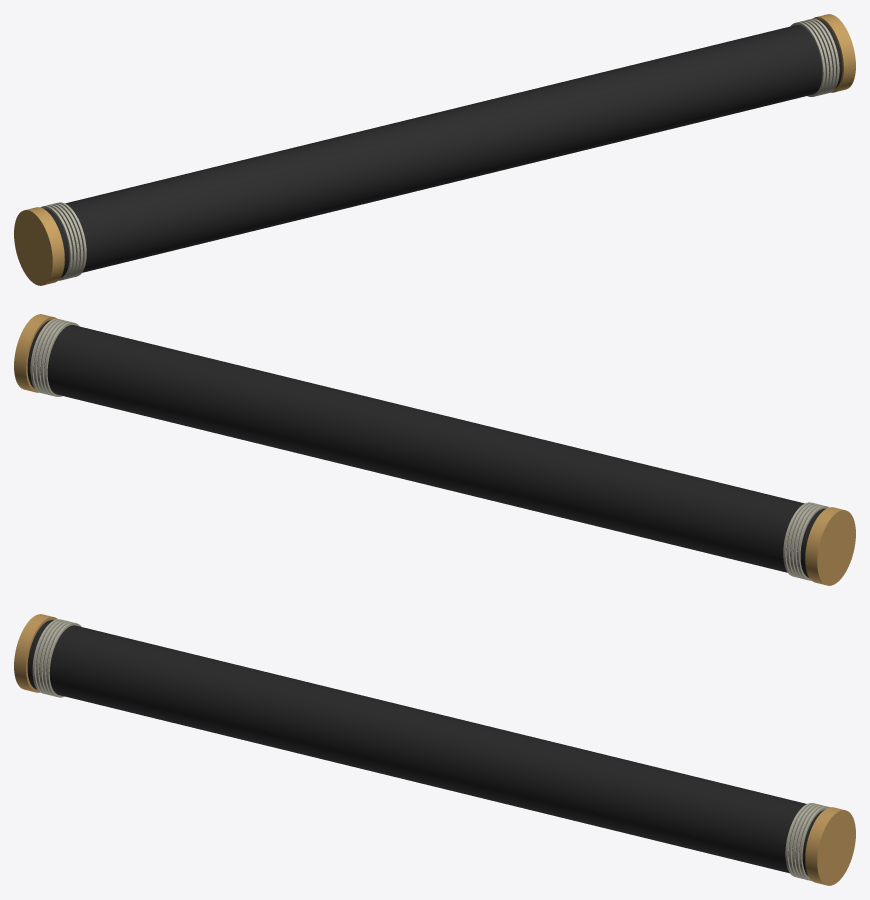
The model's file is Executive.glb.
The picture shows the model from 3 angles, top to bottom: view 1: azimuth 30°, elevation 25°; view 2: azimuth 150°, elevation 25°; view 3: azimuth 330°, elevation 25°; orthographic projection.
Visible parts, largest first — view 1: Rubber platen, Drum shoulder (×2); view 2: Rubber platen, Drum shoulder (×2); view 3: Rubber platen, Drum shoulder (×2).
Boxes of the visible parts, bbox=[...] form: Rubber platen: bbox=[44, 20, 842, 277]; Drum shoulder (×2): bbox=[14, 14, 855, 285]; Rubber platen: bbox=[27, 320, 825, 577]; Drum shoulder (×2): bbox=[14, 314, 855, 585]; Rubber platen: bbox=[27, 620, 824, 876]; Drum shoulder (×2): bbox=[14, 614, 855, 885].
Bounding box in the file's own units: 6 × 0.502 × 0.502.
